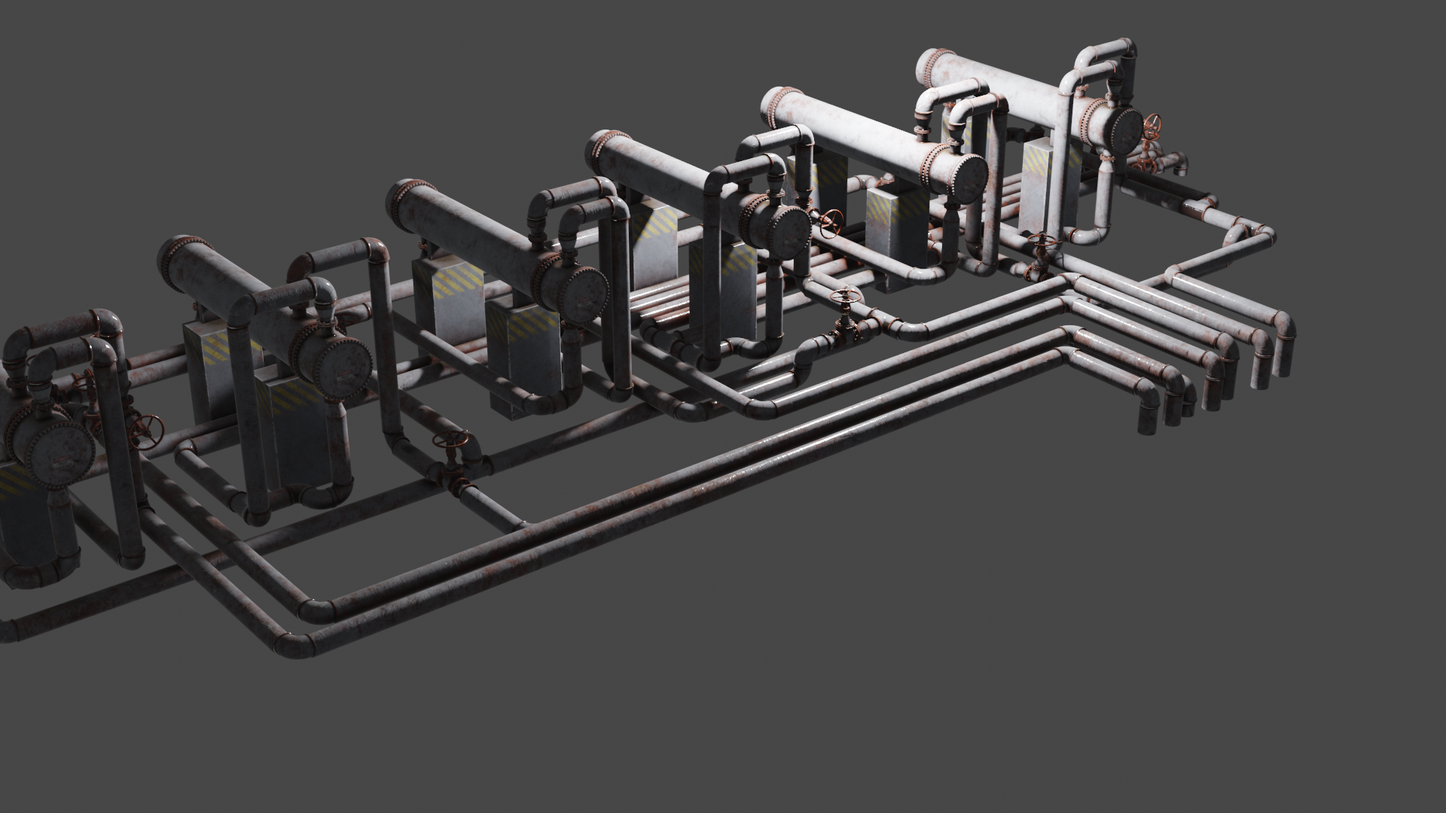HE_2: (155, 234, 370, 401)
